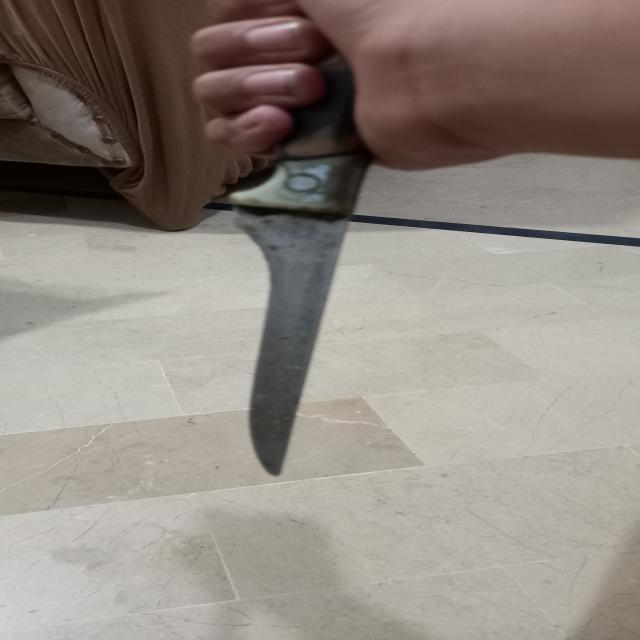Knife: (207, 14, 413, 492)
